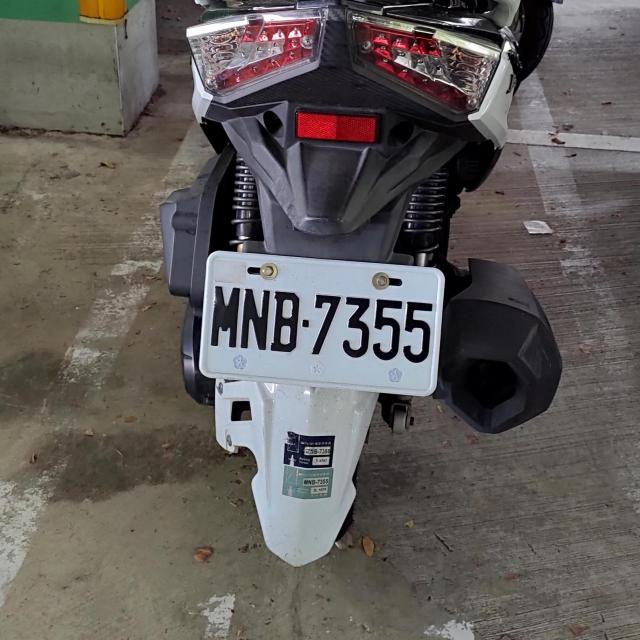W: (197, 250, 445, 396)
